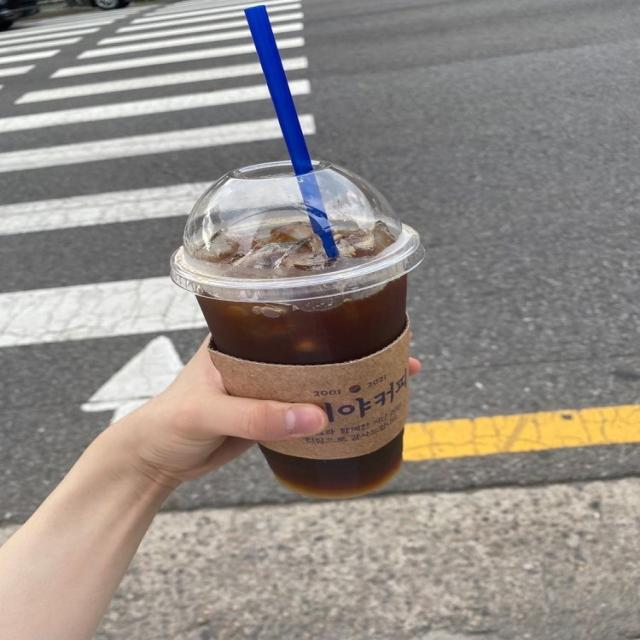plastic cup: (168, 159, 427, 498)
